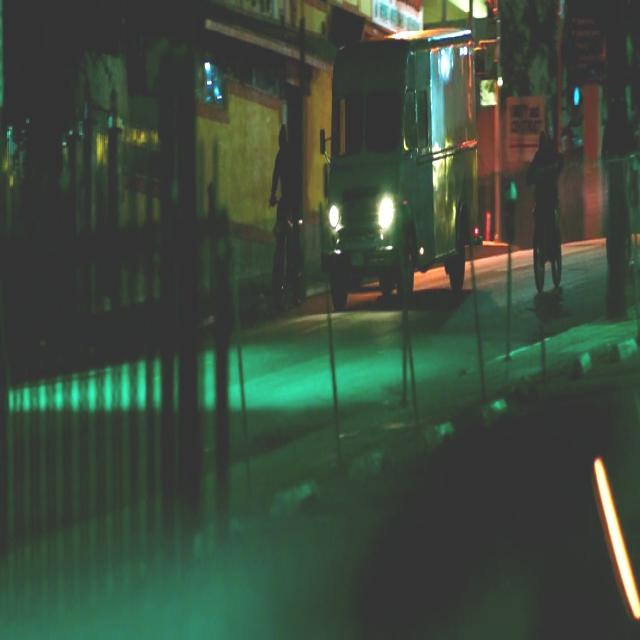Motorbike: (265, 196, 307, 308), (527, 177, 568, 288)
